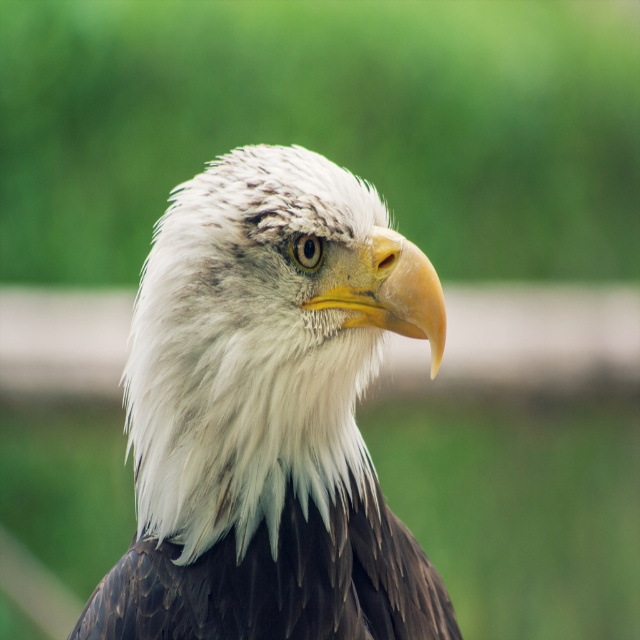Eagle: (58, 139, 466, 639)
